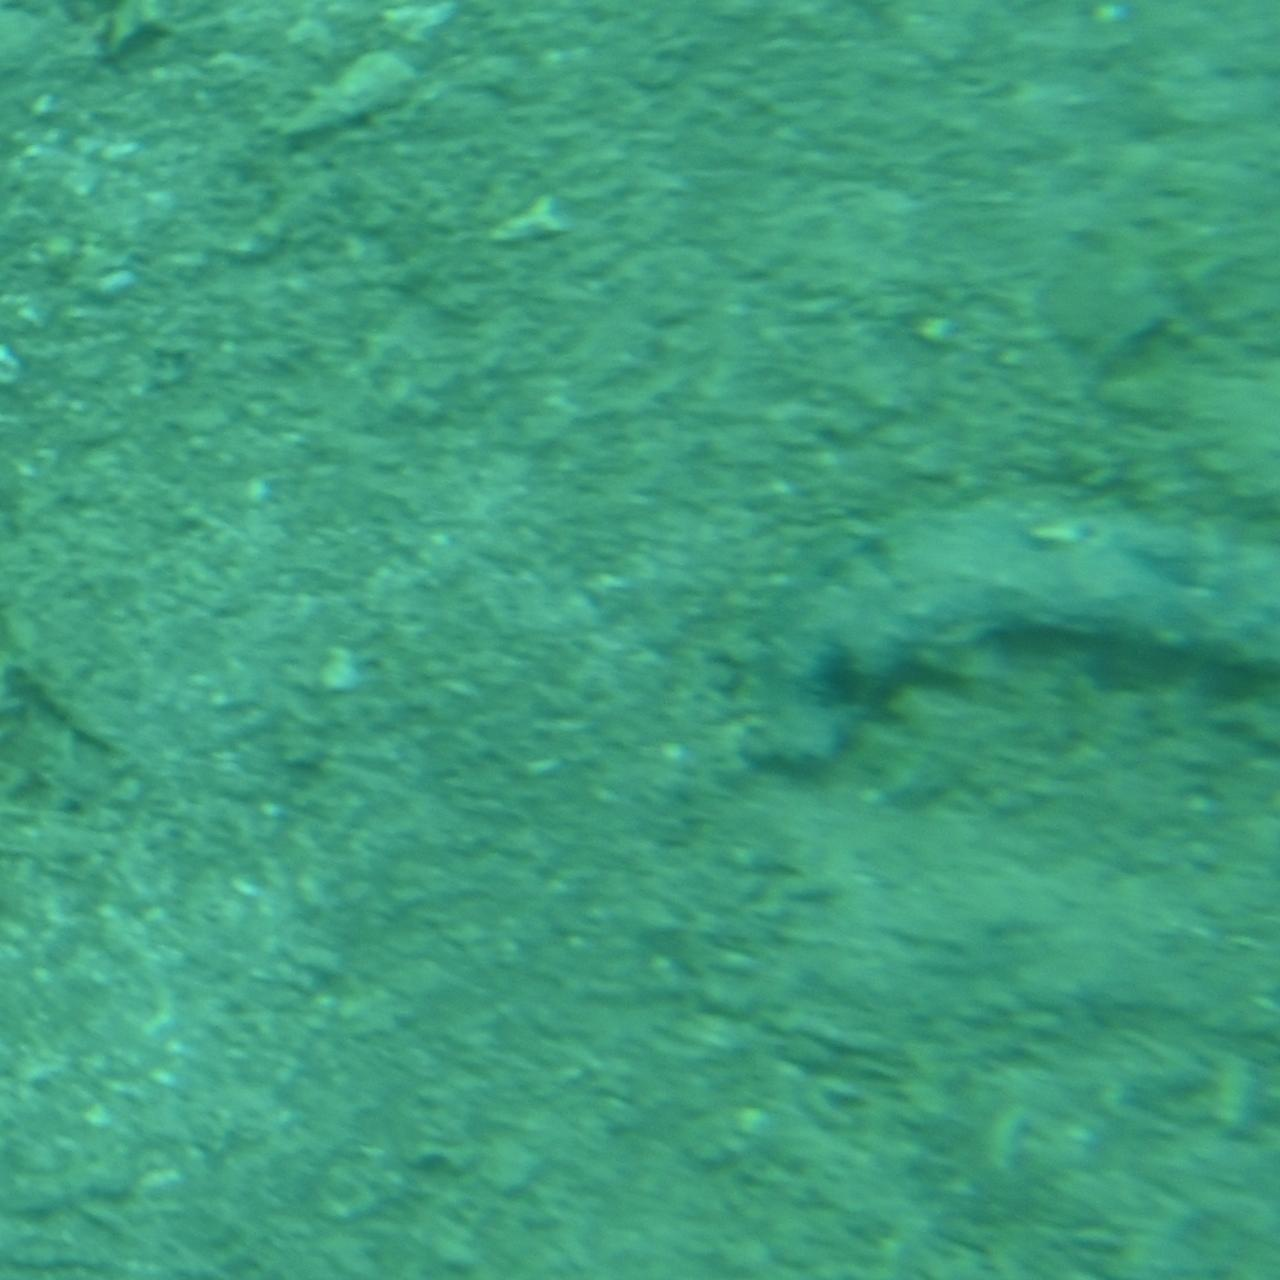Holothuria tubulosa: (760, 492, 1280, 788)
